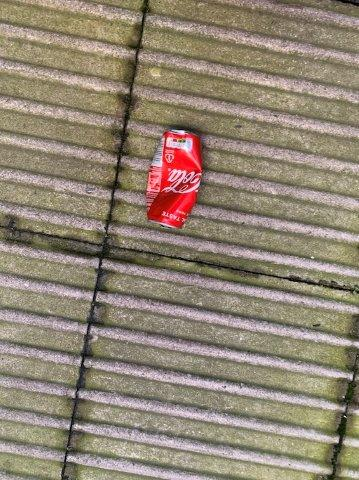kaleng: (147, 130, 201, 227)
